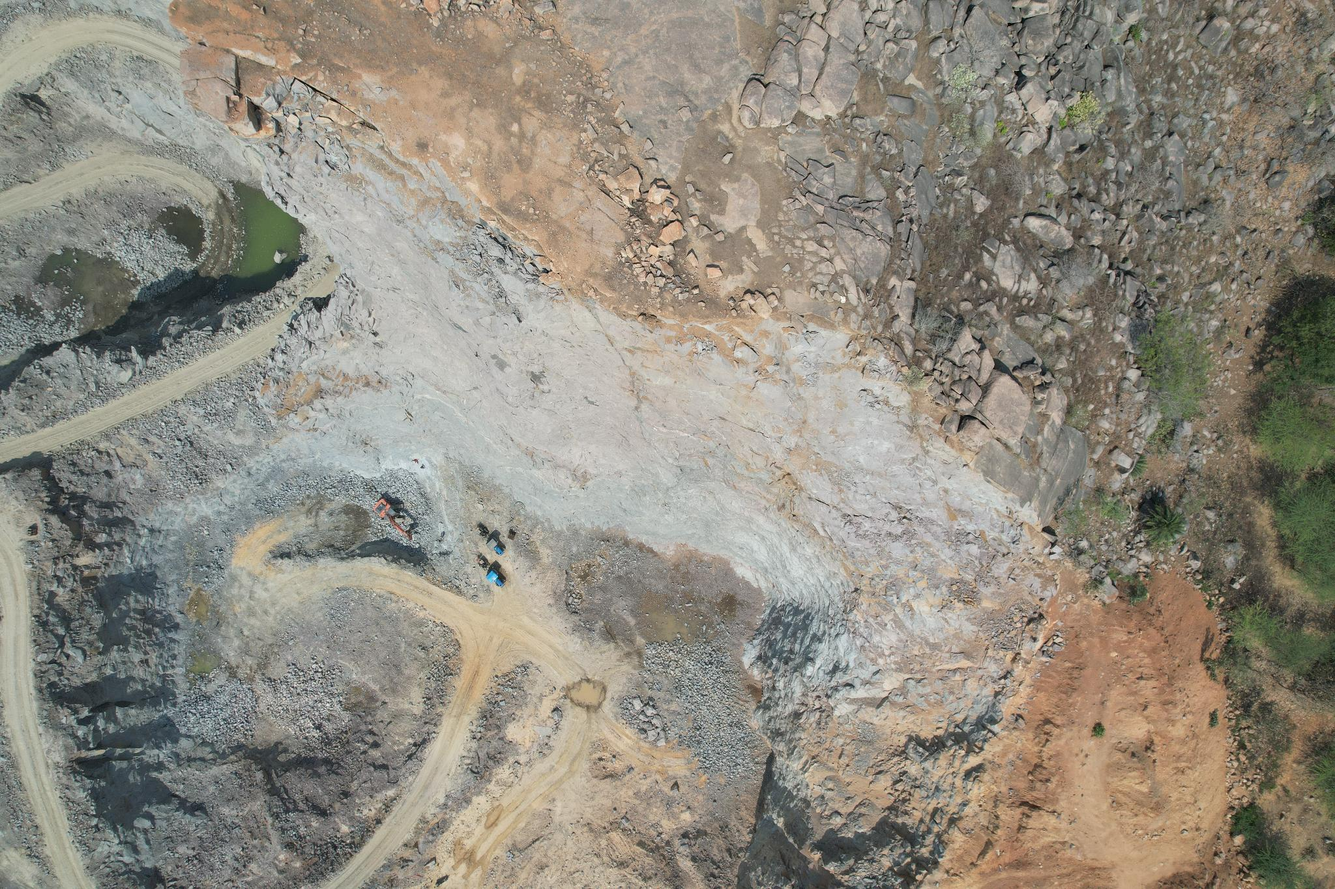benches: (233, 526, 605, 889), (0, 233, 340, 462), (0, 517, 95, 889), (0, 153, 229, 223), (0, 17, 172, 96)
excavator: (361, 480, 446, 568)
